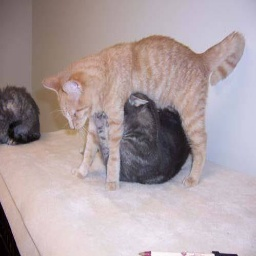cat: (37, 29, 244, 194)
